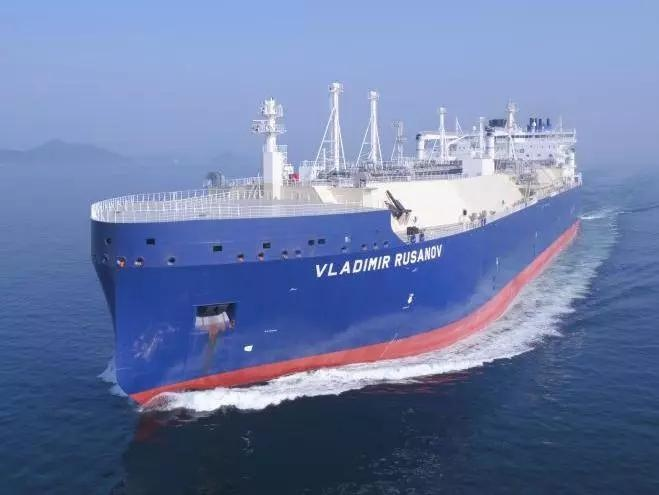Cargoship: (82, 75, 586, 410)
